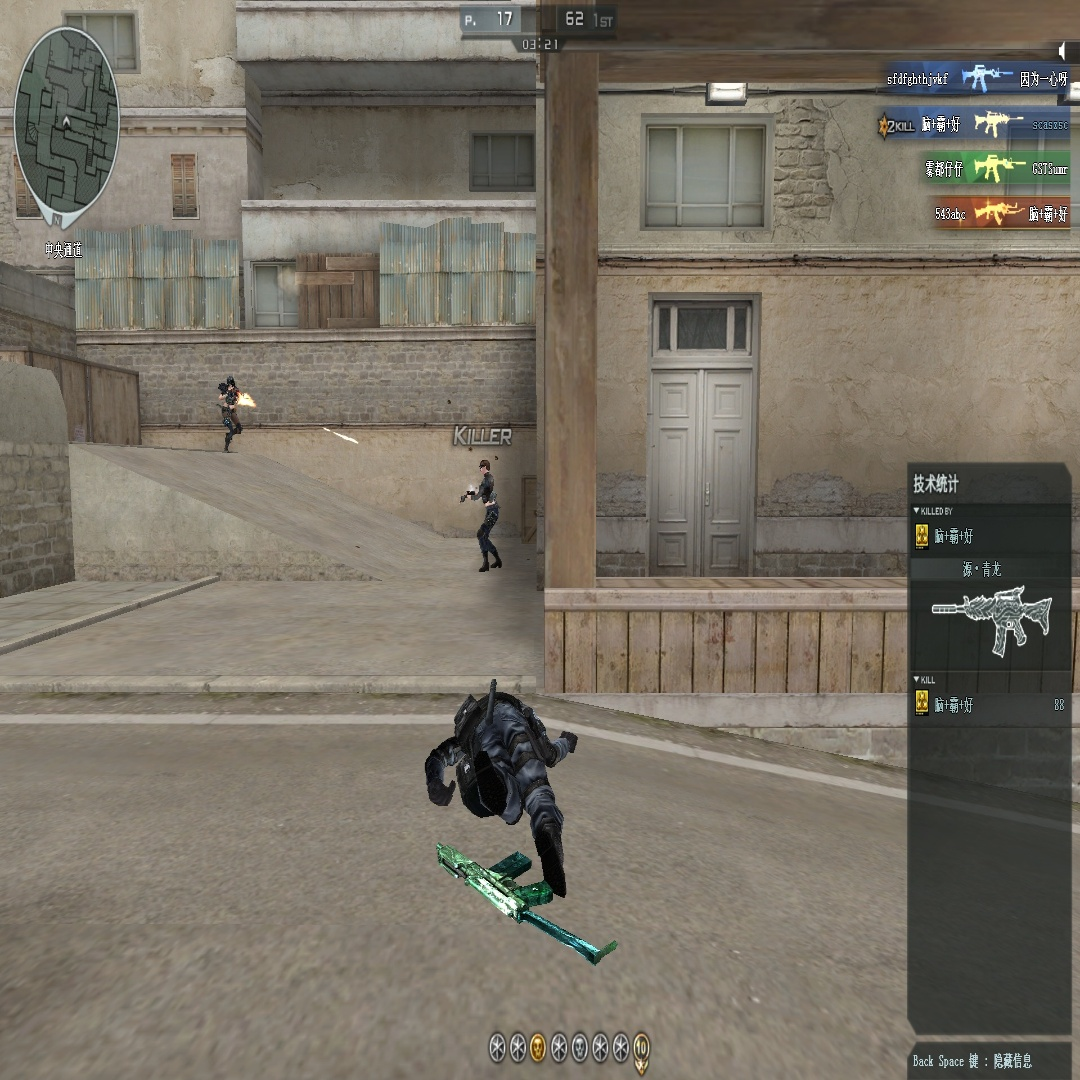head: (478, 459, 491, 478), (227, 374, 235, 390)
p: (461, 456, 502, 572), (217, 375, 244, 447)
